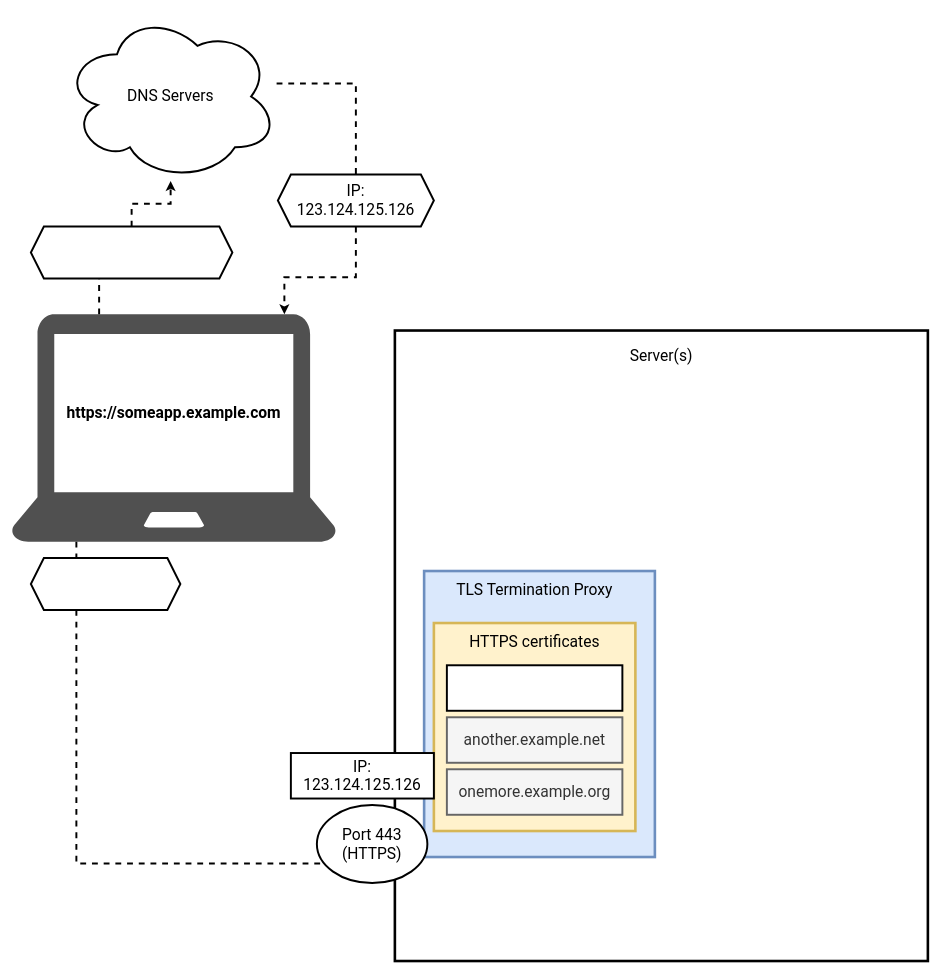
This 940x974 diagram has some shape labels left out. The shapes that lost their labels are listed below. From the top down, each one's centre as x and y in pixels, then its label:
At pixel 131 252: "Who is: someapp.example.com".
At pixel 105 584: "TLS Handshake".
At pixel 534 687: "someapp.example.com".
